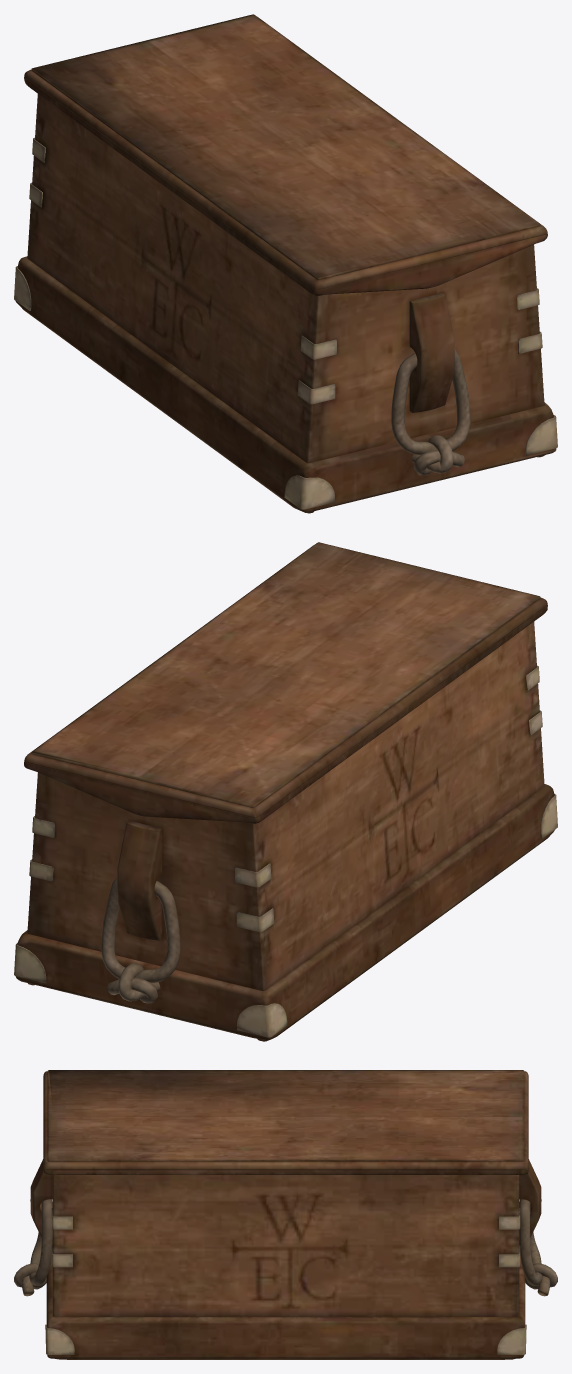
The model's file is wooden_crate_02.glb.
The picture shows the model from 3 angles, top to bottom: view 1: azimuth 30°, elevation 25°; view 2: azimuth 150°, elevation 25°; view 3: azimuth 270°, elevation 25°; orthographic projection. The views are drawn at different scales.
Visible parts, largest first — view 1: wooden_crate_02_crate; view 2: wooden_crate_02_crate; view 3: wooden_crate_02_crate.
Boxes of the visible parts, x1,y1,x2,y2 form: wooden_crate_02_crate: (14,14,557,513); wooden_crate_02_crate: (14,542,557,1041); wooden_crate_02_crate: (14,1070,557,1359).
Size of the model in its own units: 0.5291 by 0.4639 by 1.17.
1 material, 1 textured.
